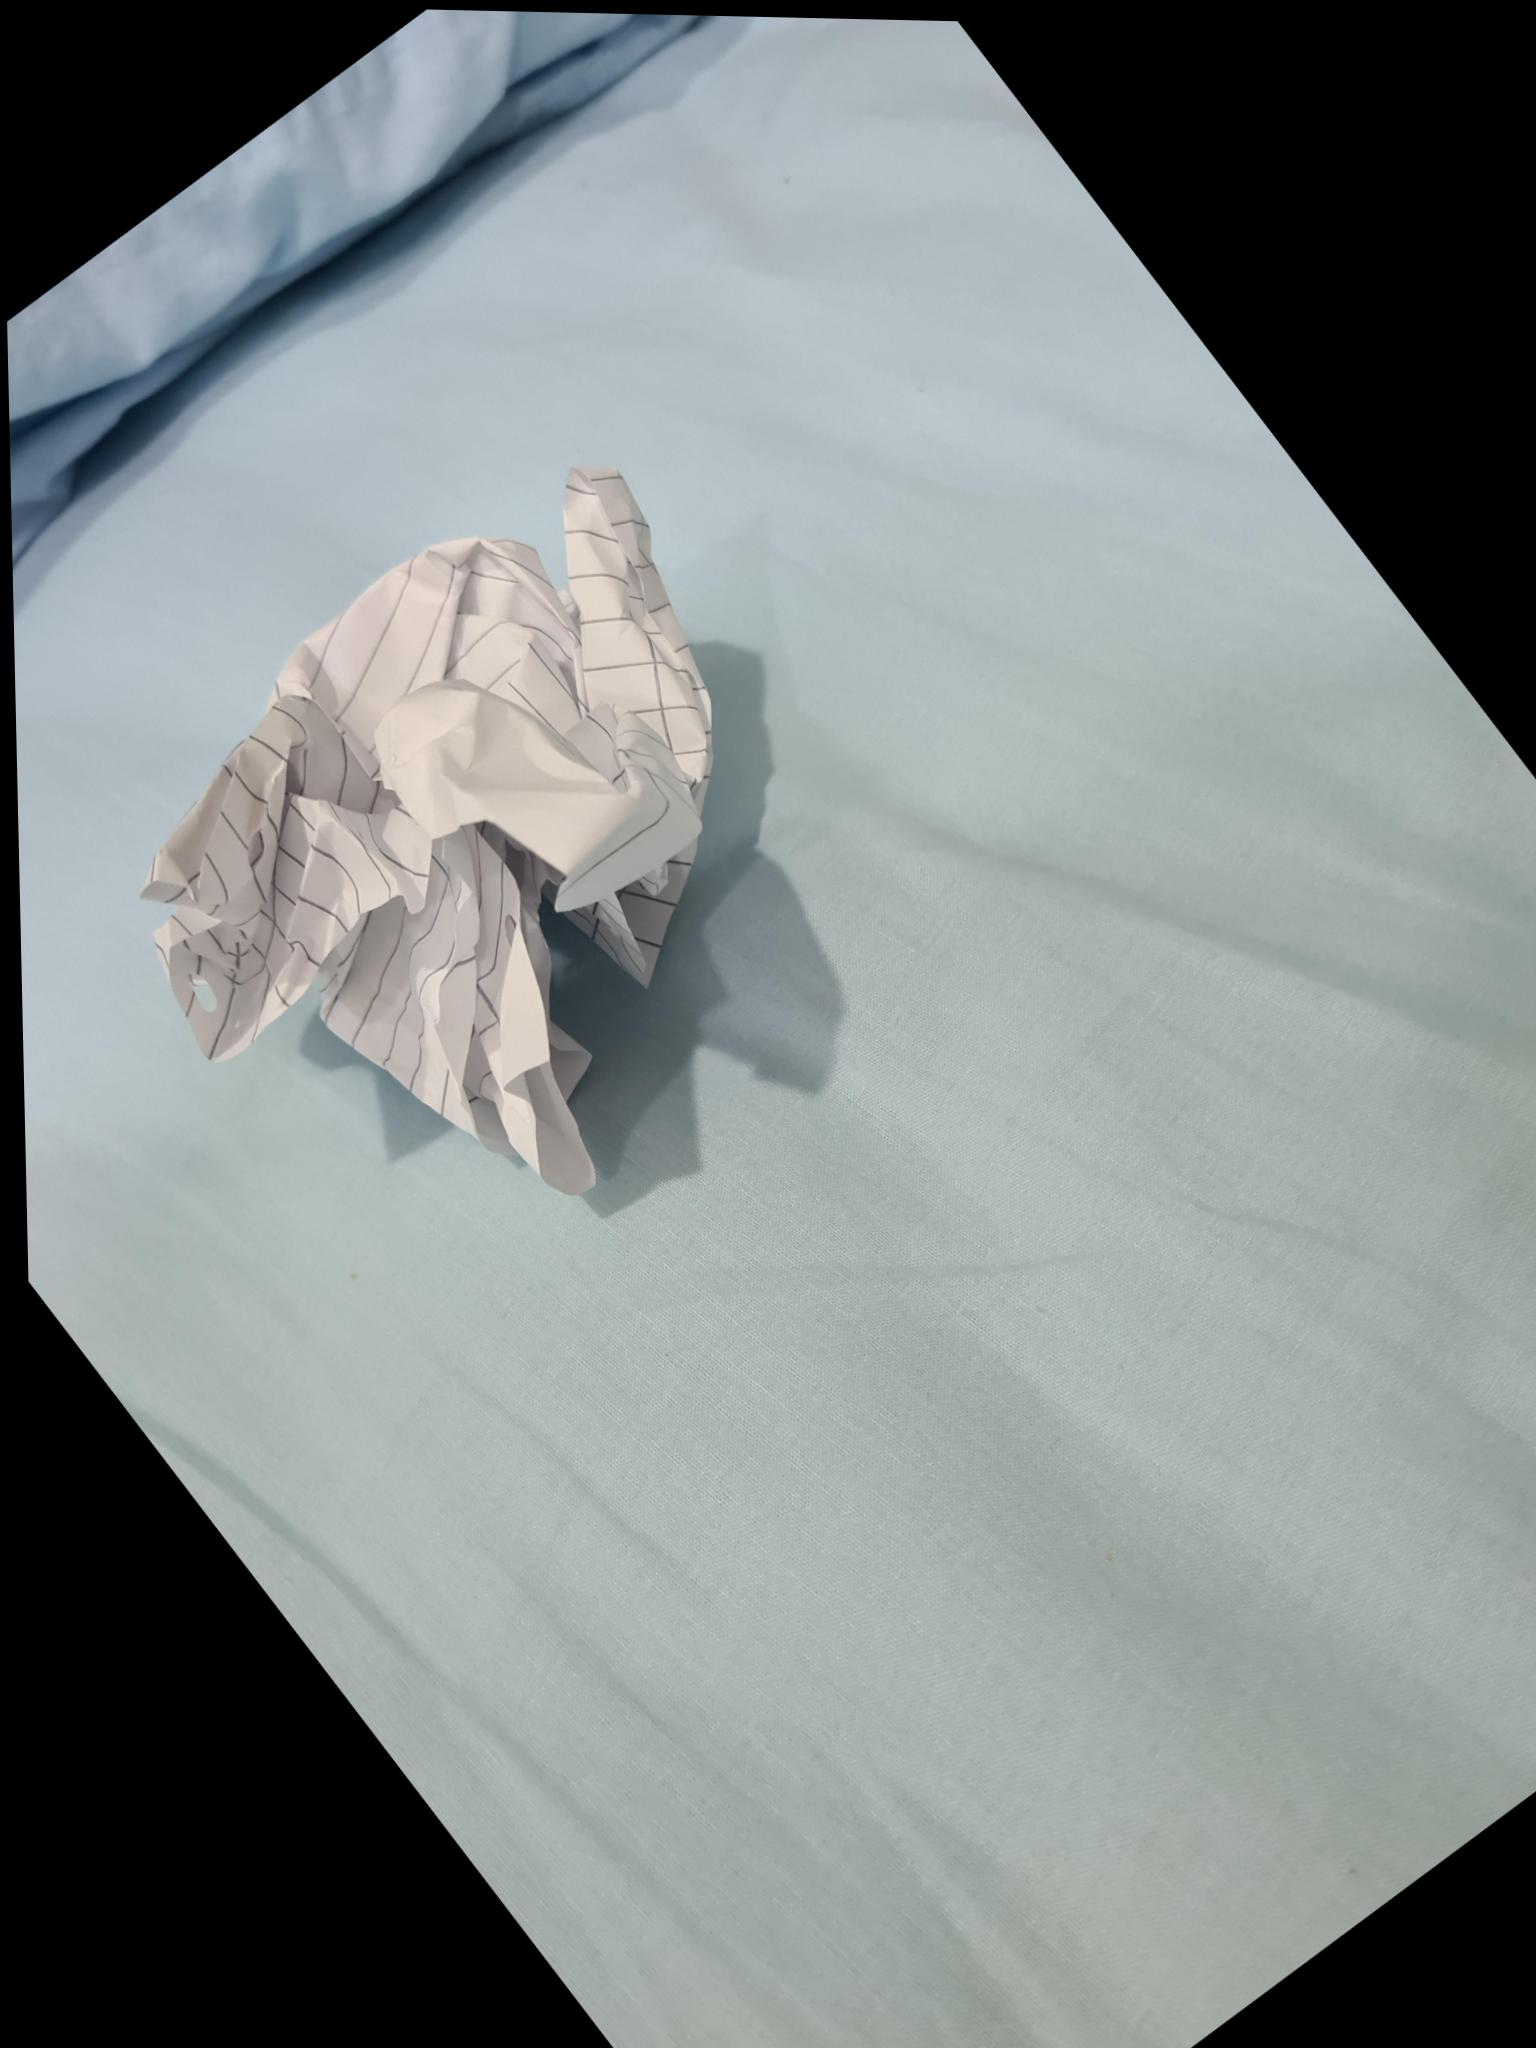paper: (50, 397, 983, 1313)
